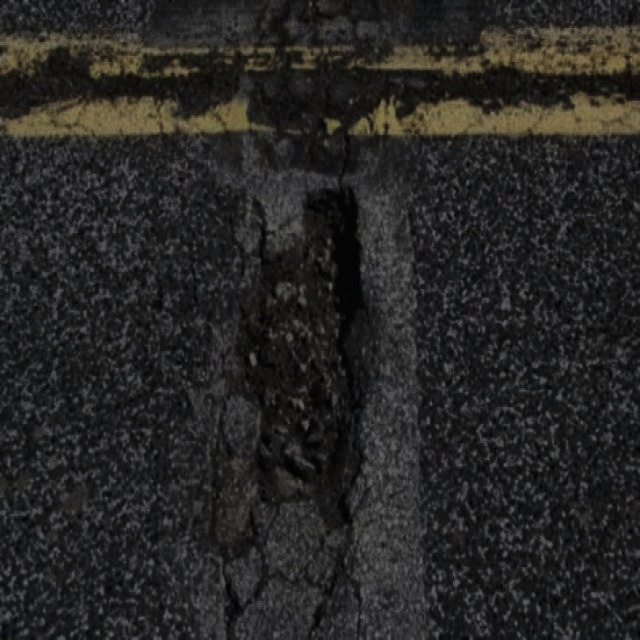Pothole: (234, 177, 370, 541)
